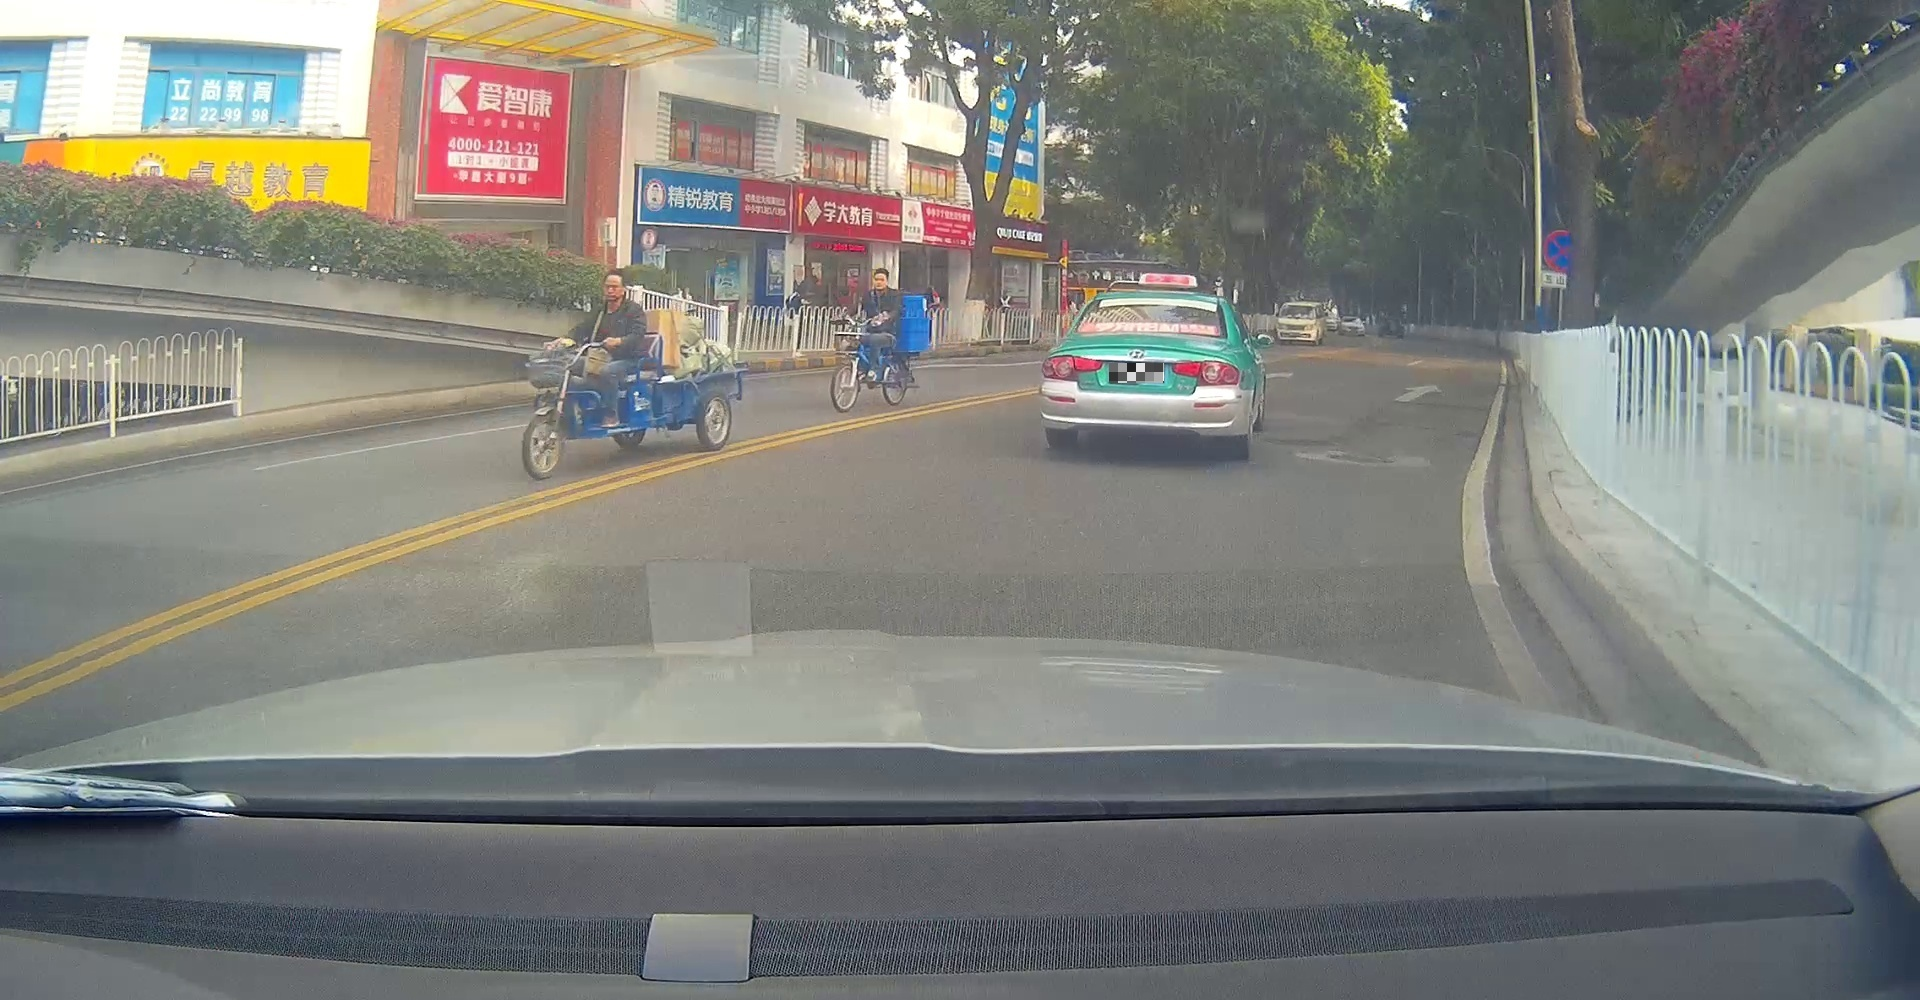L_light: (1041, 354, 1103, 379)
R_light: (1173, 360, 1239, 386)
T_light: (1133, 324, 1161, 329)
day-no: (1040, 291, 1244, 459)
plate_1: (1109, 363, 1164, 383)
